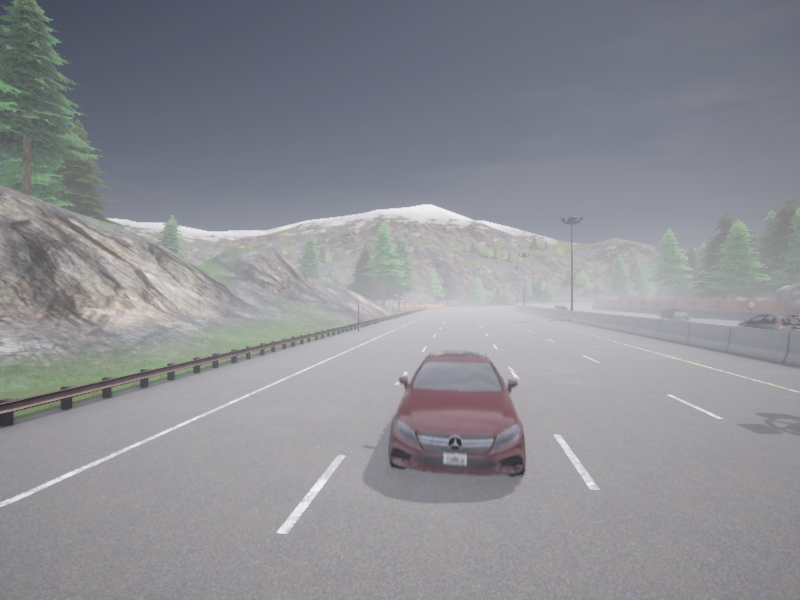vehicle: (389, 349, 525, 475), (736, 314, 799, 332), (660, 308, 688, 320), (552, 305, 566, 309)
